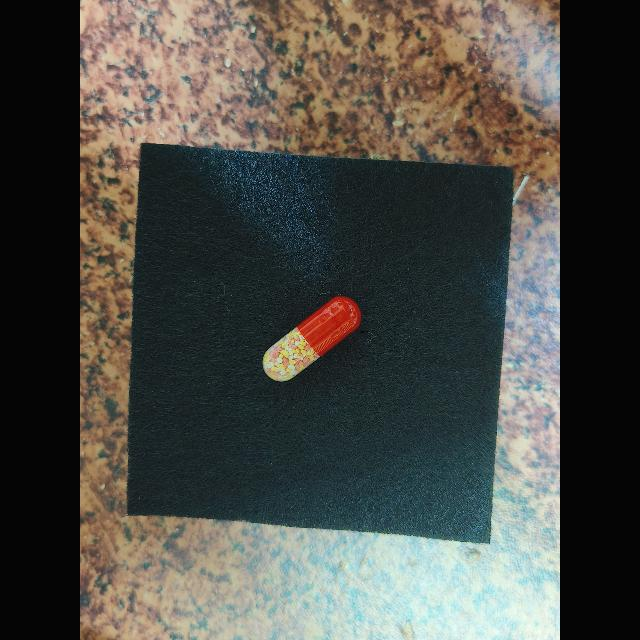Intact Capsule: (262, 296, 361, 382)
